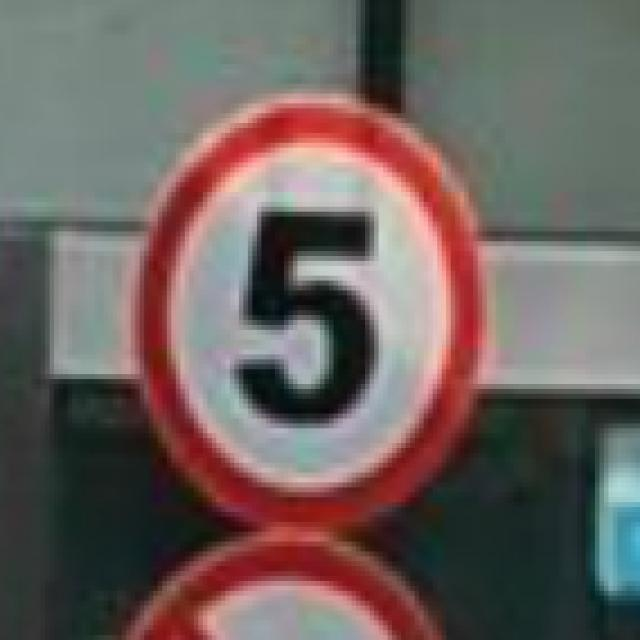Speed: (123, 66, 519, 537)
